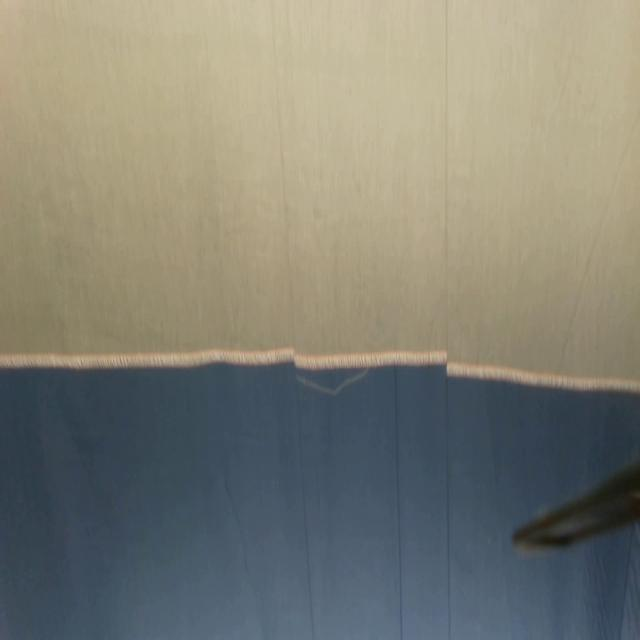crease: (269, 0, 318, 640), (442, 0, 456, 640), (394, 364, 406, 636)
